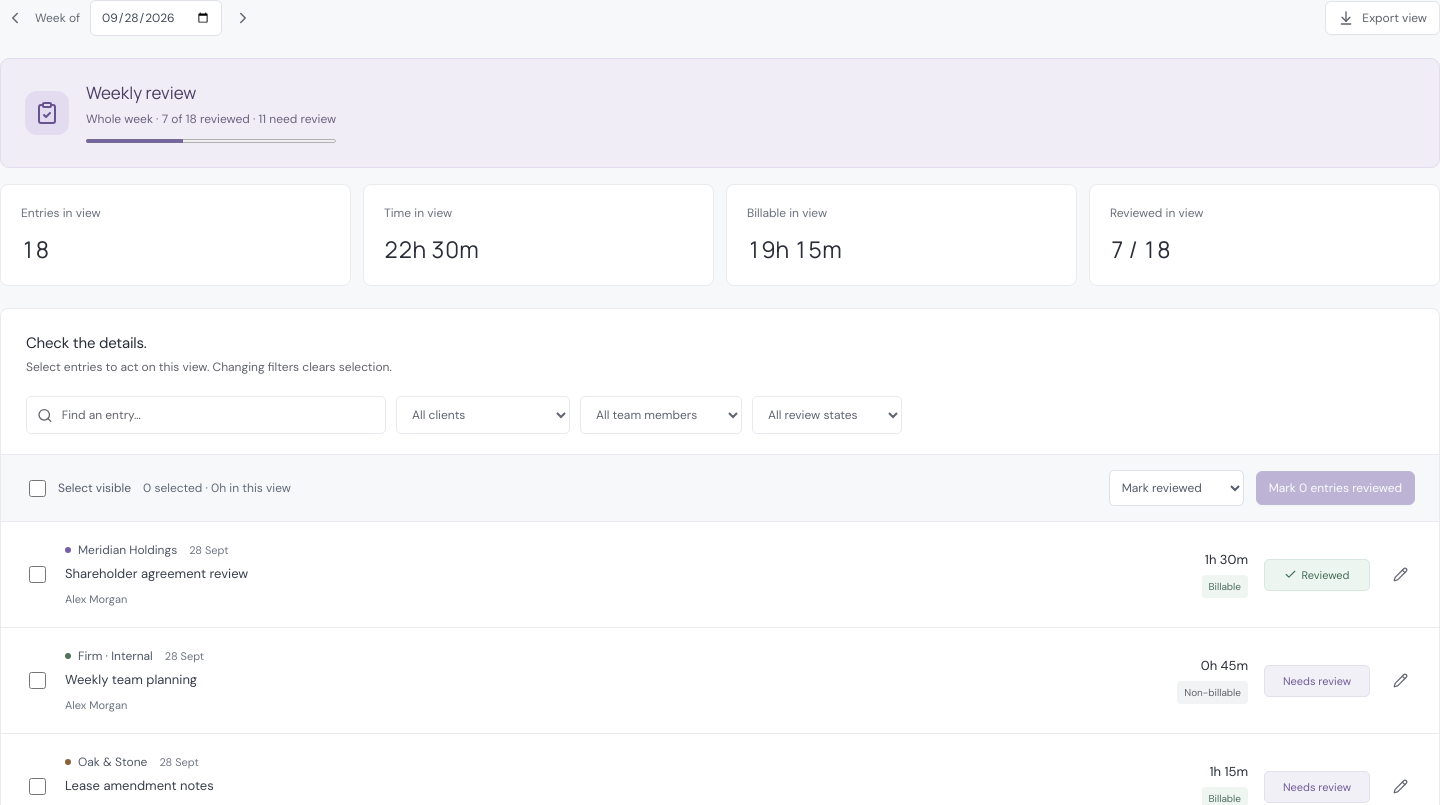
Test: weekly review view and action scope › preserves the literal search term all in the URL and view
In the field named "Search review": (218, 415) [62,397,375,433], type "all"
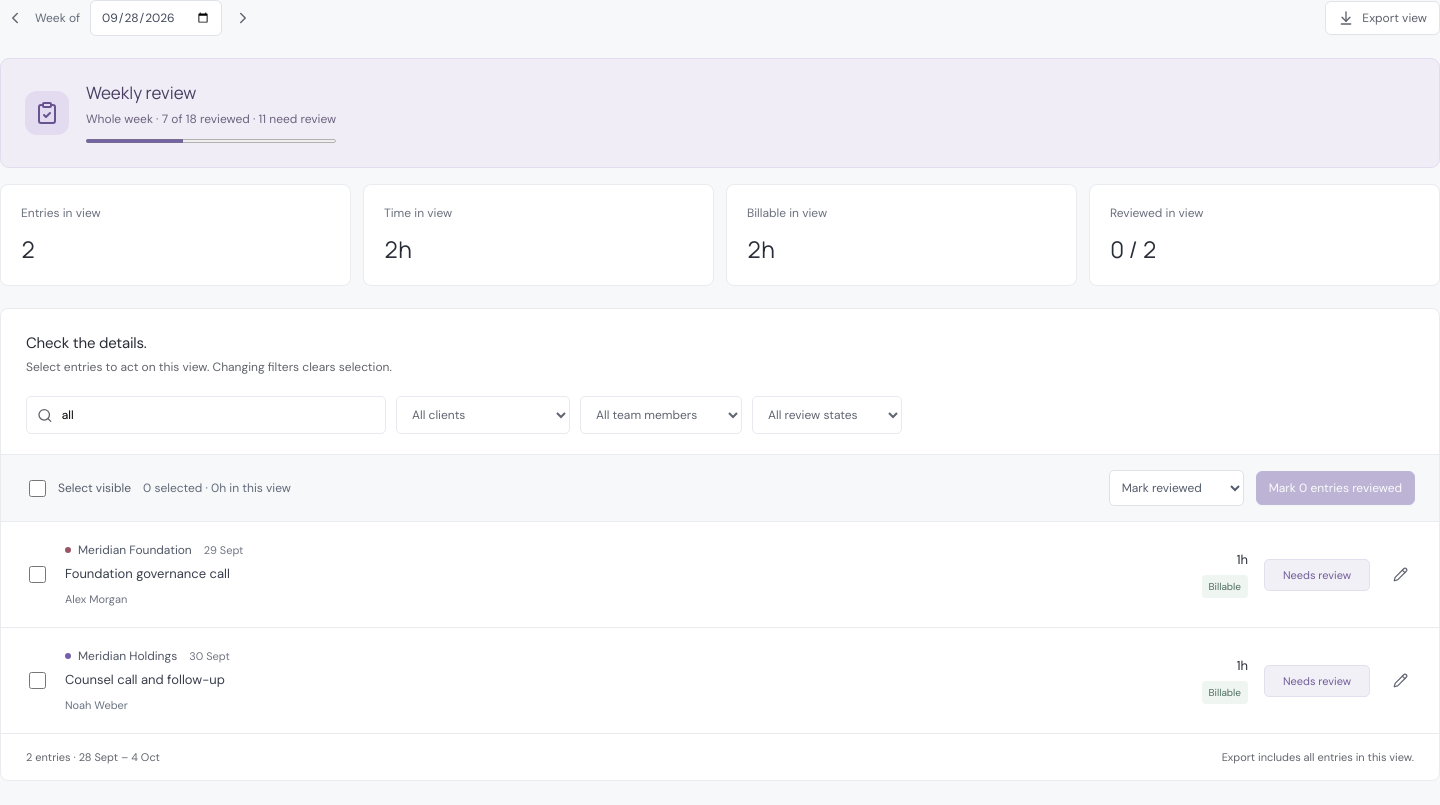
Now the number of elements with class "review-row" is 2, box [1,522,1439,628]; [1,628,1439,733]
Now the text with test id "review-total" reads "2h", box [384,233,412,265]
